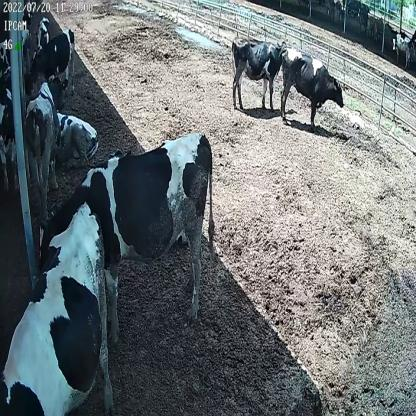cow: (38, 131, 216, 346), (25, 71, 70, 202), (280, 48, 346, 124), (229, 33, 288, 110), (26, 29, 78, 98), (35, 10, 50, 50)
